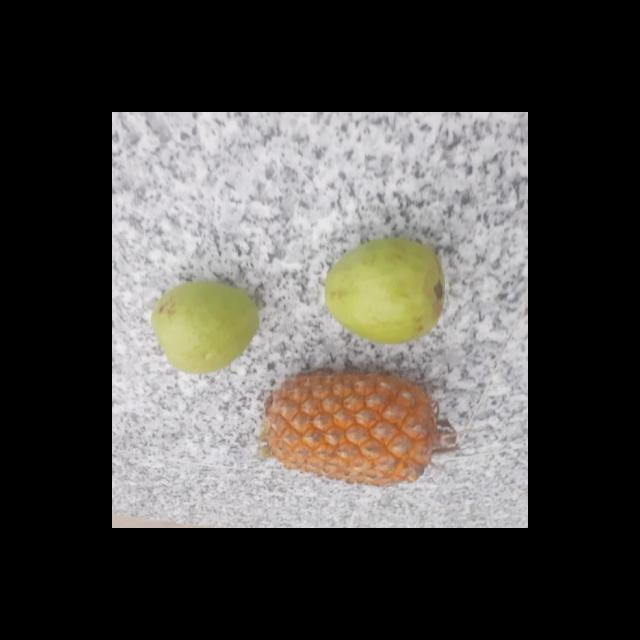guava: (326, 240, 454, 342), (151, 282, 262, 372)
pineapple: (262, 366, 442, 488)
